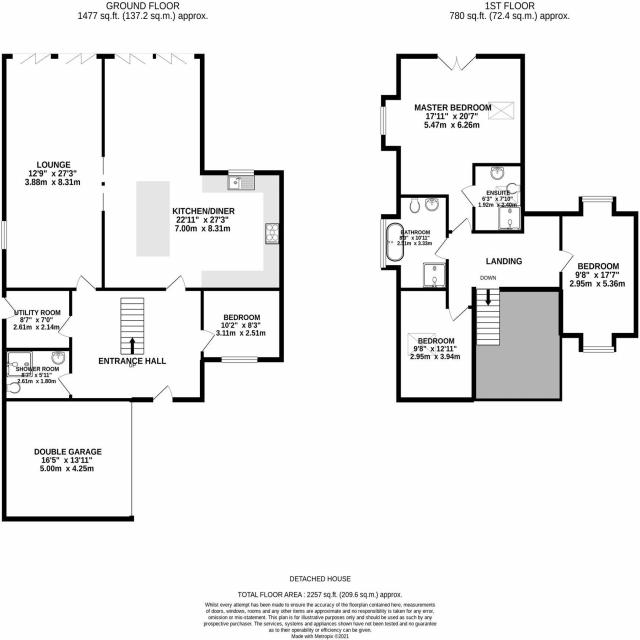DOOR: (446, 304, 470, 325), (450, 215, 474, 236), (432, 236, 450, 261), (152, 384, 175, 403), (1, 296, 19, 320), (459, 183, 476, 208), (559, 248, 576, 273), (200, 329, 217, 353), (165, 274, 187, 292), (56, 315, 73, 338), (57, 372, 73, 395)
ROOM: (101, 53, 284, 292), (380, 53, 525, 234), (1, 53, 106, 292), (55, 271, 218, 403), (558, 195, 639, 354), (395, 287, 477, 403), (200, 287, 284, 363), (75, 273, 97, 292)
WINDOW: (379, 218, 388, 270), (577, 195, 614, 204), (582, 345, 618, 354), (221, 356, 258, 364), (379, 105, 388, 136), (228, 169, 255, 176), (1, 220, 7, 250)
